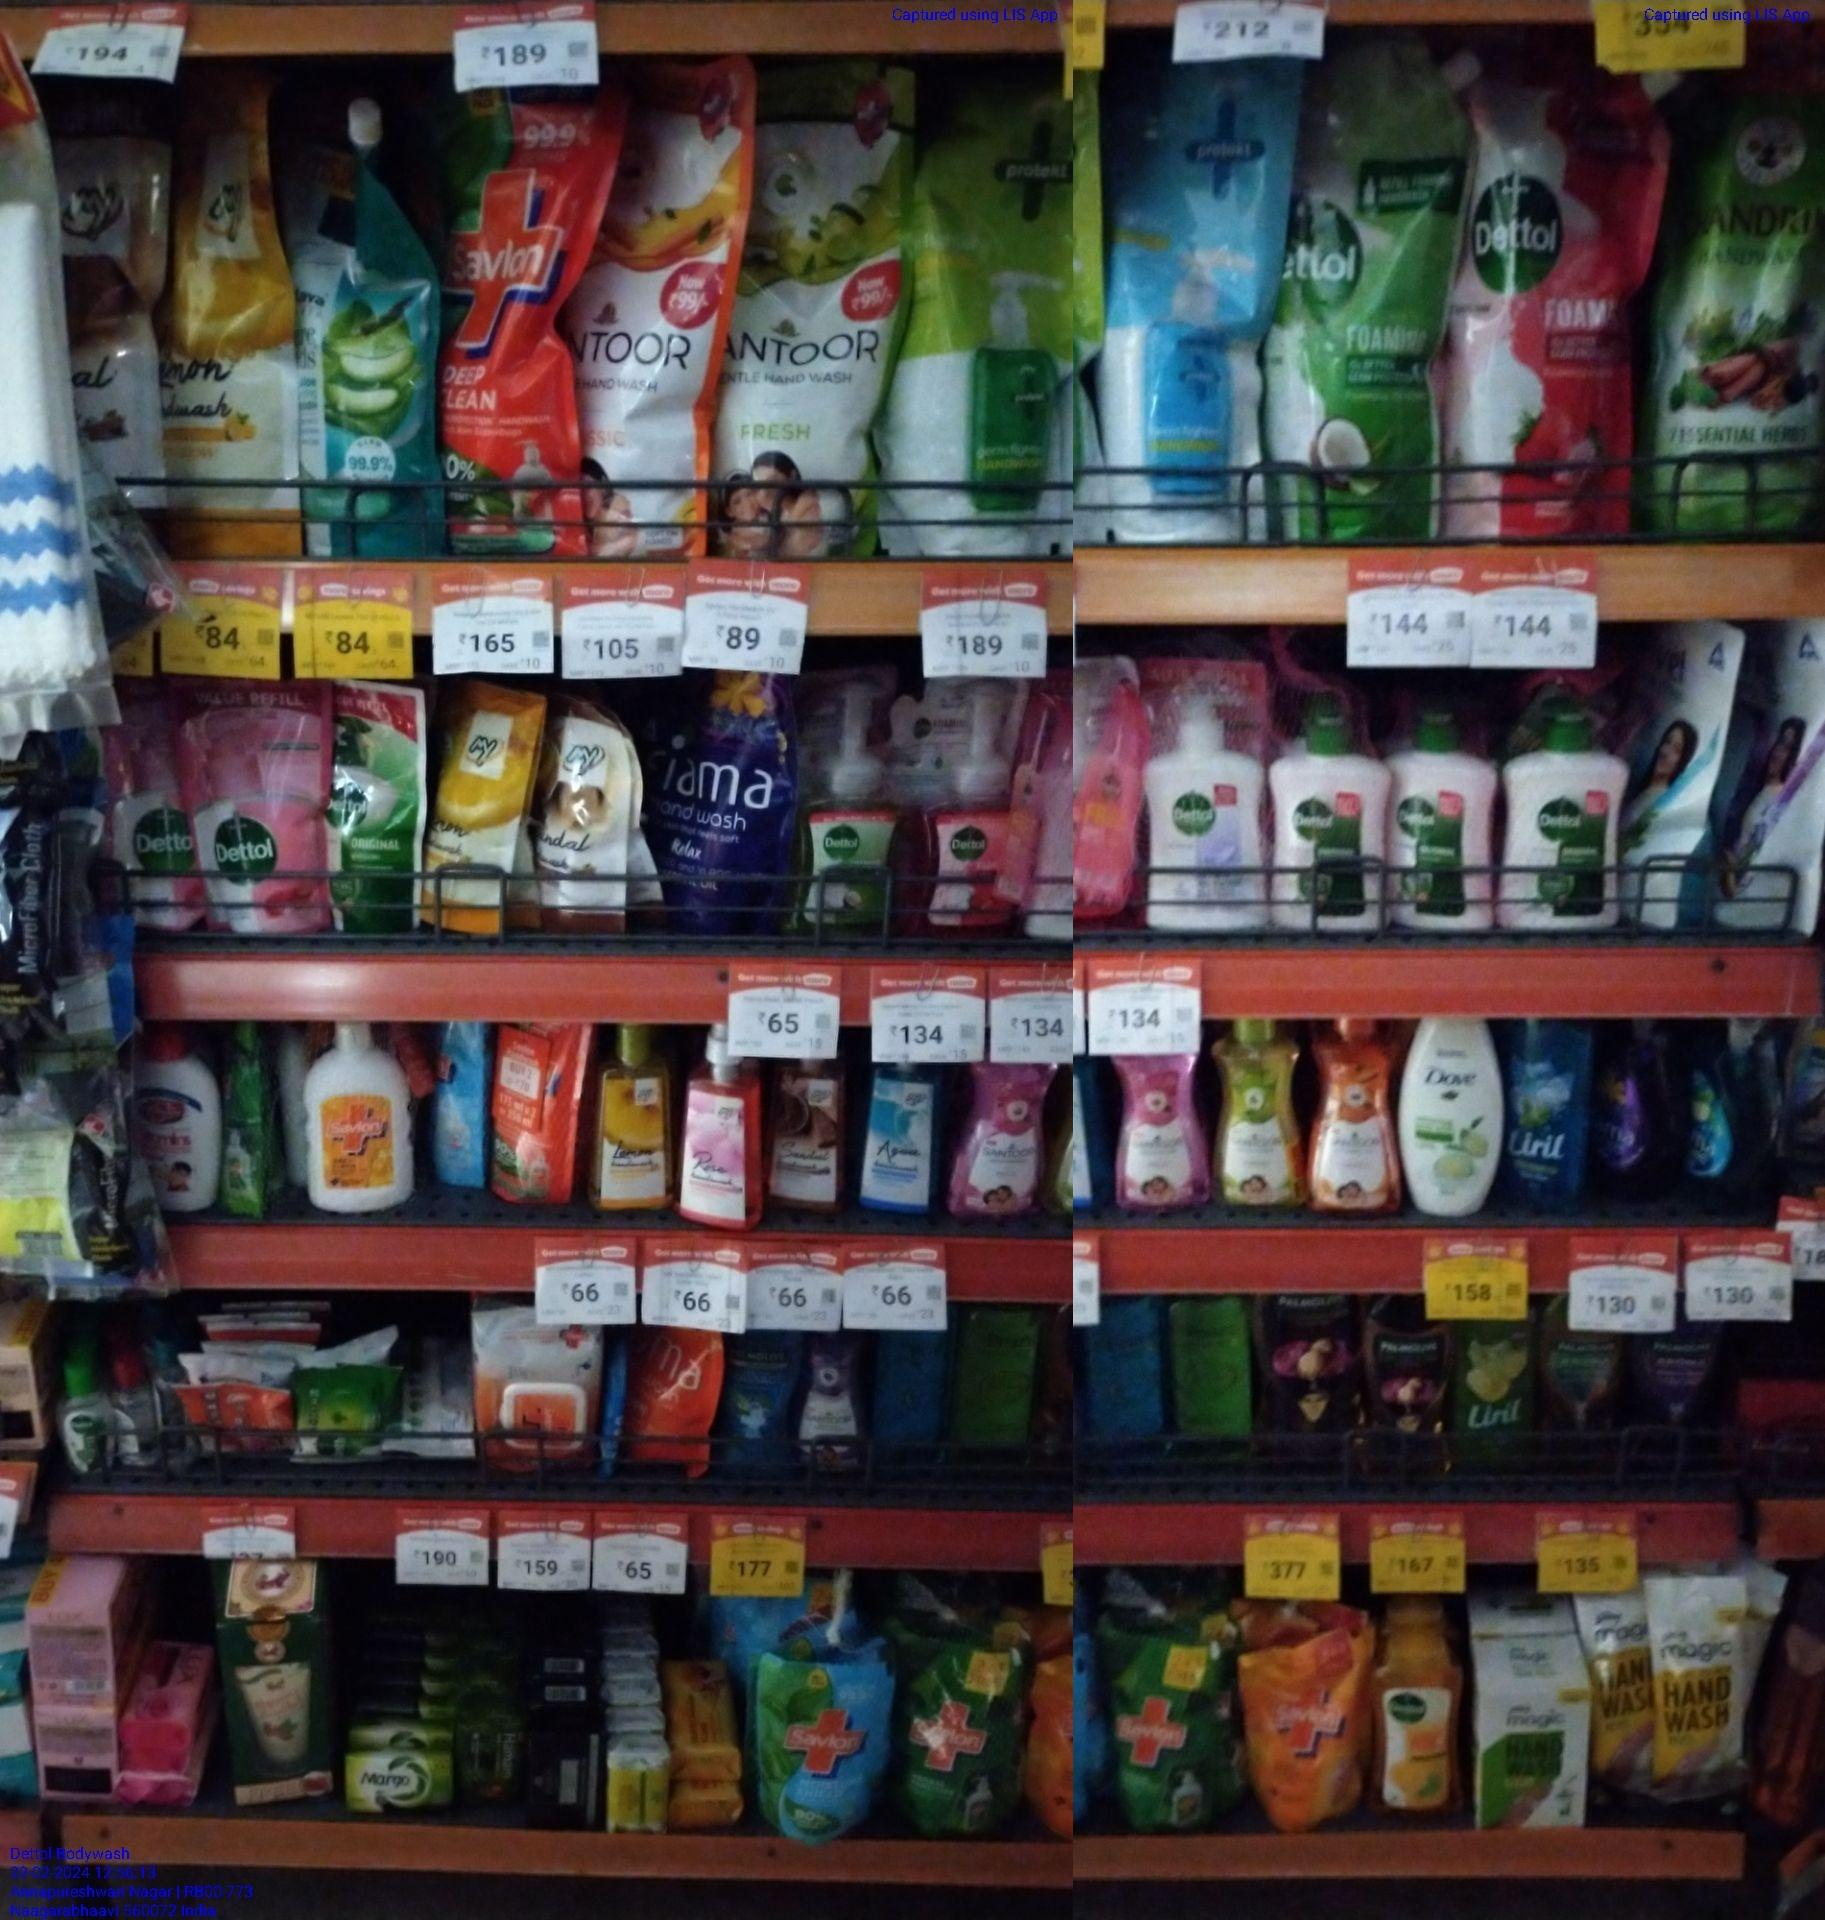Dove_Refreshing_Body_Wash_250ML: (1403, 1020, 1503, 1221)
Liril_Cooling_Mint_Body_Wash_250ML: (1505, 1017, 1594, 1219)
Liril_Lime_and_Tea_Tree_Oil_Body_Wash_250ML: (1457, 1322, 1537, 1474)
Palmolive_Luminous_Oils_Invigorating_Macadamia_Oil_With_Peony_250ML: (1261, 1289, 1355, 1467), (1369, 1293, 1453, 1481)
